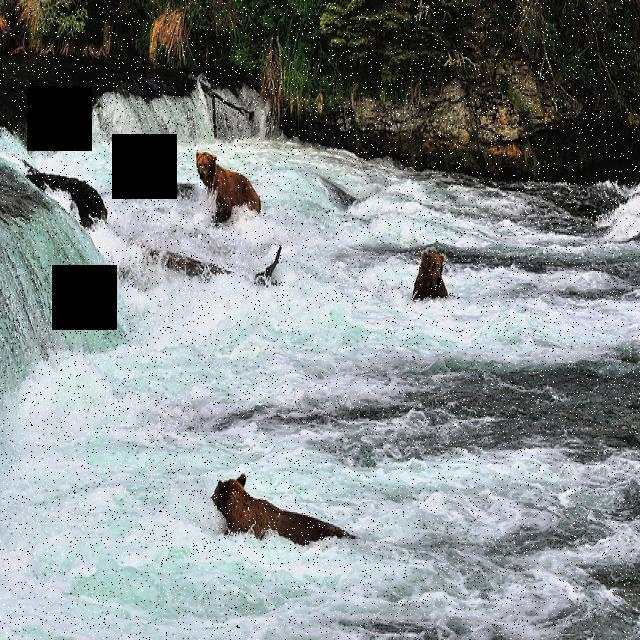Bear: (213, 466, 354, 555), (192, 147, 262, 222), (408, 240, 450, 304)
